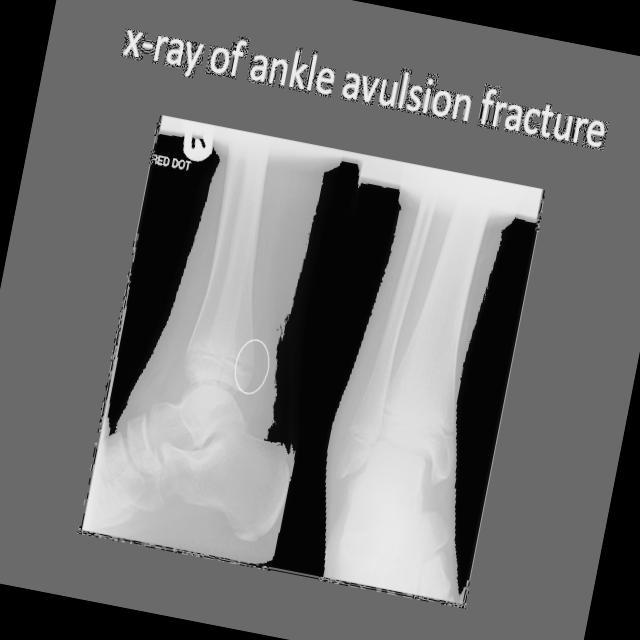Avlusion Fracture: (232, 338, 272, 396)
